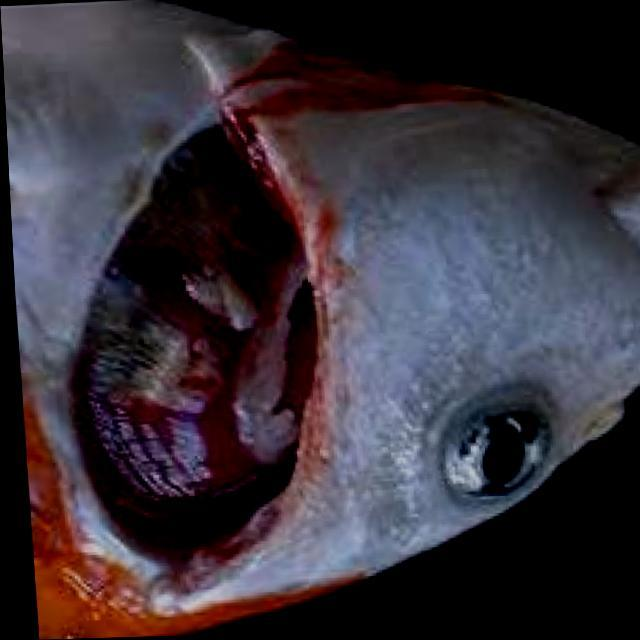Gill Disease: (43, 1, 599, 640)
